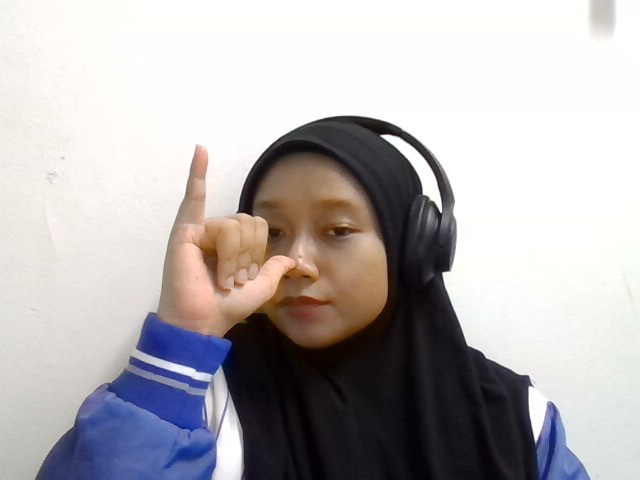BadakSumbu: (158, 142, 342, 328)
